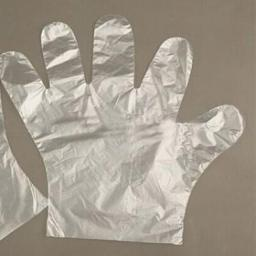Plastic: (1, 17, 245, 248)
